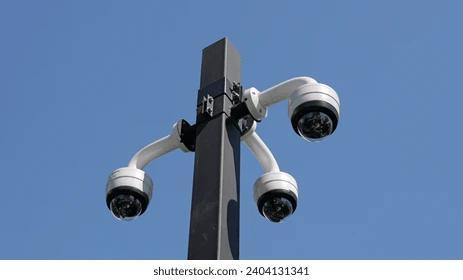360-Cam: (286, 81, 345, 146), (97, 165, 156, 226), (250, 170, 305, 230)
